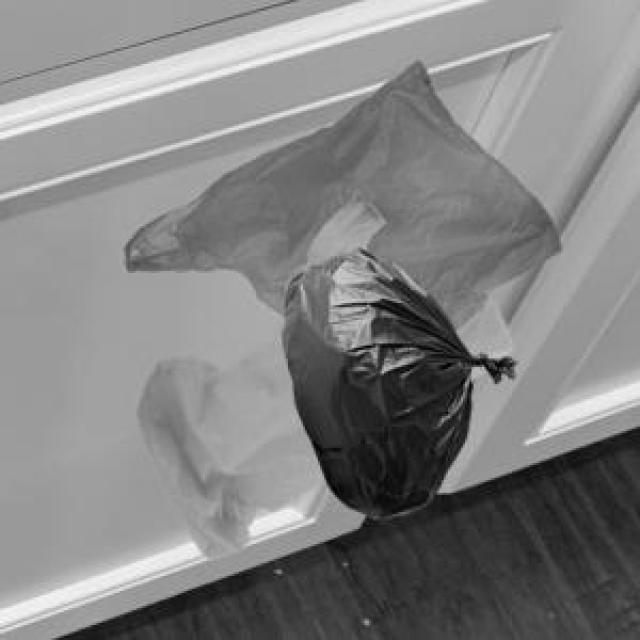miscellaneous trash: (280, 245, 512, 514)
